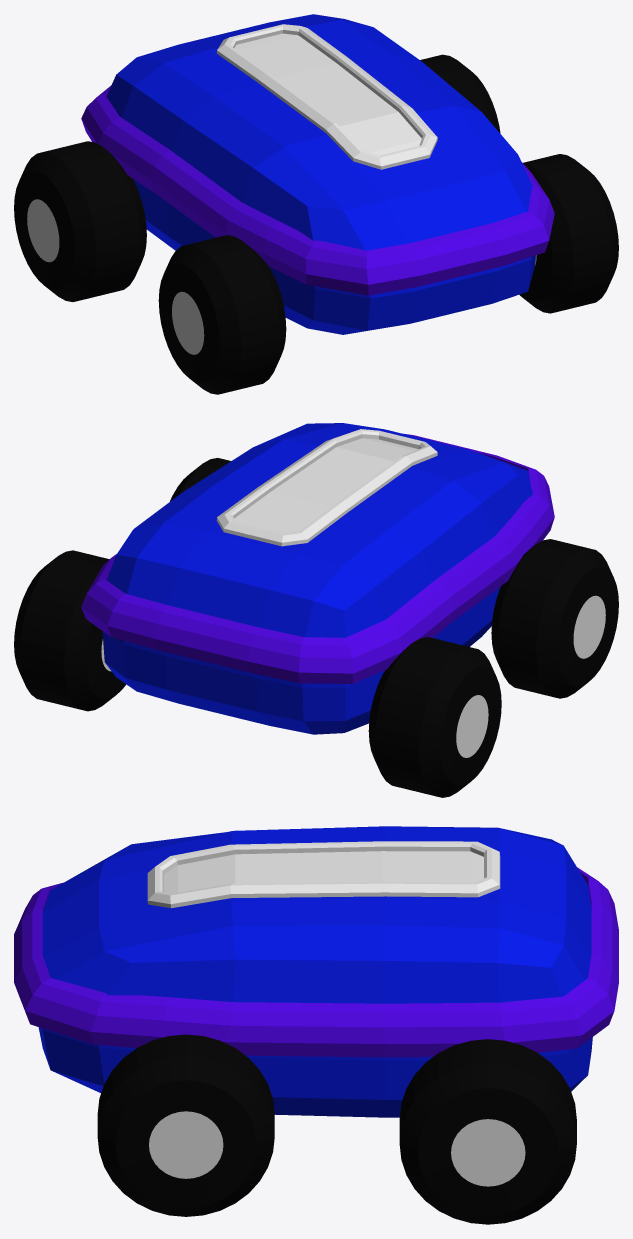
Rendered from VacuumCleanerBox.fbx.
3 renders of one model, top to bottom at view 1: azimuth 30°, elevation 25°; view 2: azimuth 150°, elevation 25°; view 3: azimuth 270°, elevation 25°, orthographic. The views are drawn at different scales.
Parts seen in each view (by area): view 1: Body, Whells, Torus, BodyCap; view 2: Body, Whells, Torus, BodyCap; view 3: Body, Whells, Torus, BodyCap.
Part boxes in pixels (<box>): Body: <box>106,14,535,334</box>; Whells: <box>14,54,618,394</box>; Torus: <box>81,85,554,295</box>; BodyCap: <box>216,24,437,169</box>; Body: <box>102,423,532,734</box>; Whells: <box>14,458,618,797</box>; Torus: <box>81,433,554,683</box>; BodyCap: <box>216,429,437,546</box>; Body: <box>38,826,592,1117</box>; Whells: <box>97,1034,576,1224</box>; Torus: <box>14,867,618,1057</box>; BodyCap: <box>147,841,500,908</box>.
Bounding box in the file's own units: 550 × 266 × 583.
